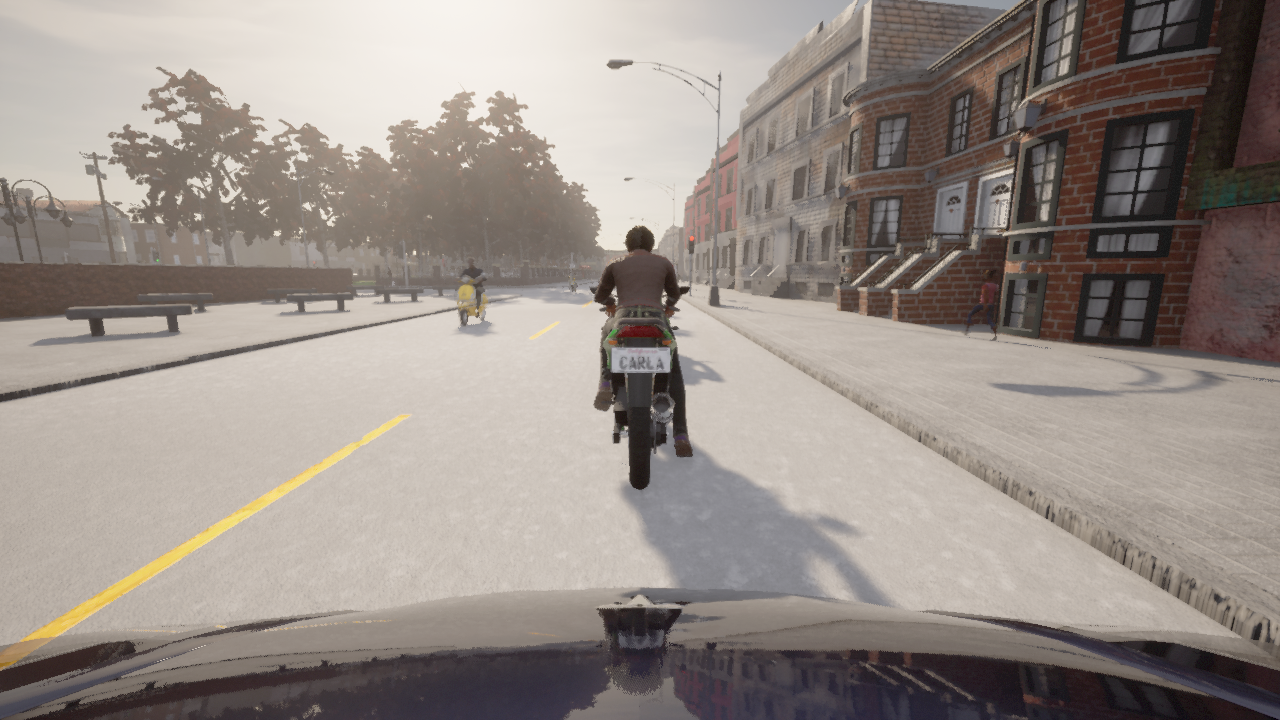cyclist: (0, 588, 1279, 719), (589, 287, 689, 489), (450, 272, 488, 326), (380, 274, 399, 287), (566, 274, 576, 292)
pedestrian: (959, 269, 998, 340), (142, 262, 145, 263)
